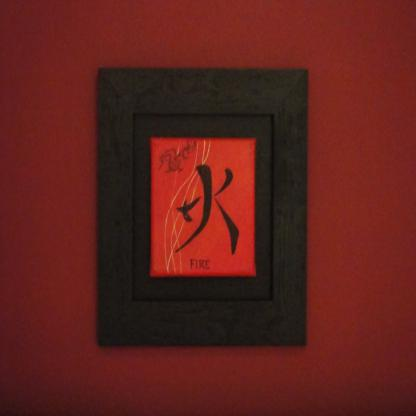Picture-frame: (99, 76, 300, 353)
